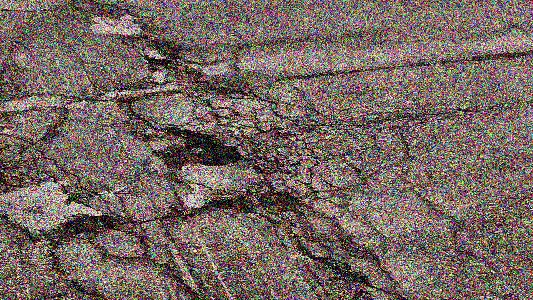pothole: (169, 125, 249, 171), (212, 187, 302, 215), (319, 263, 376, 299), (138, 38, 185, 73), (62, 213, 118, 239)
